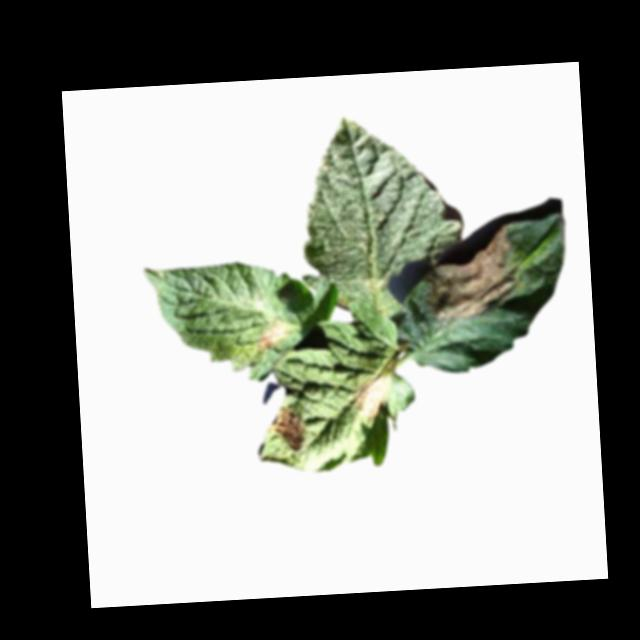Late_blight: (424, 223, 520, 325), (352, 372, 394, 421), (267, 404, 307, 452), (254, 314, 291, 354)
